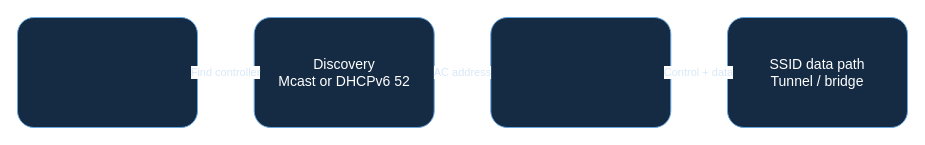
The diagram is 925 pixels wide and 145 high, and some of its shapes have lost their labels. The shapes that lost their labels are listed below. From the top down, each one's box as (x1, y1, x2, y2) in pixels, then its label:
(16, 16, 198, 128): FortiAP IPv6 management
(490, 16, 671, 128): FortiGate AC IPv6 CAPWAP
